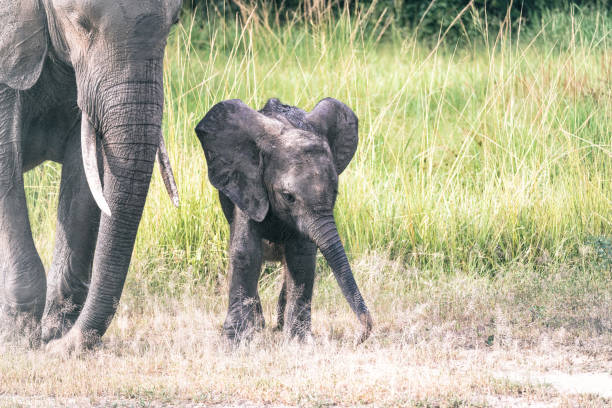africanelephant: (238, 99, 352, 285)
